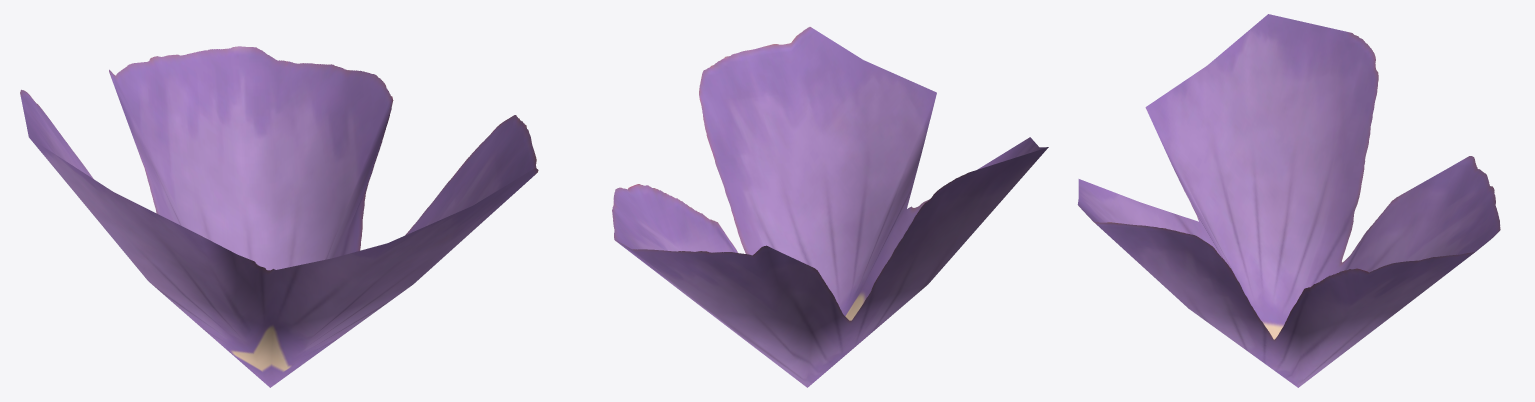
Rendered from Petal_1.gltf.
3 renders of one model, left to right at view 1: azimuth 30°, elevation 25°; view 2: azimuth 150°, elevation 25°; view 3: azimuth 270°, elevation 25°, orthographic. The views are drawn at different scales.
Parts seen in each view (by area): view 1: Petal_1; view 2: Petal_1; view 3: Petal_1.
Part boxes in pixels (x1,y1,x2,y2): Petal_1: [20, 46, 538, 387]; Petal_1: [612, 27, 1048, 387]; Petal_1: [1077, 14, 1500, 387].
Size of the model in its own units: 0.4598 by 0.3066 by 0.4566.
Materials: 1 (1 with a texture image).
